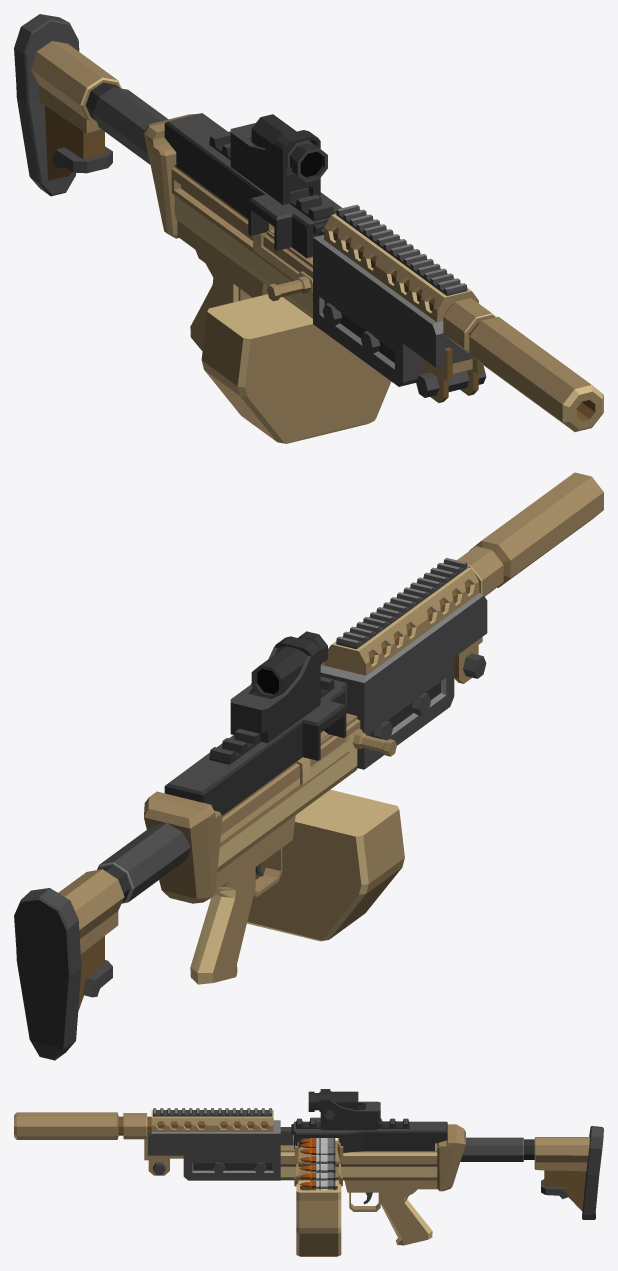
File: Machine_Gun.FBX
The picture shows the model from 3 angles, top to bottom: view 1: azimuth 30°, elevation 25°; view 2: azimuth 150°, elevation 25°; view 3: azimuth 270°, elevation 25°; orthographic projection. The views are drawn at different scales.
Visible parts, largest first — view 1: Machine_Gun; view 2: Machine_Gun; view 3: Machine_Gun.
Boxes of the visible parts, <box> form: Machine_Gun: <box>14,14,603,443</box>; Machine_Gun: <box>14,472,603,1060</box>; Machine_Gun: <box>14,1089,603,1256</box>.
Size of the model in its own units: 0.1451 by 0.2386 by 0.8335.
1 material, 1 textured.
